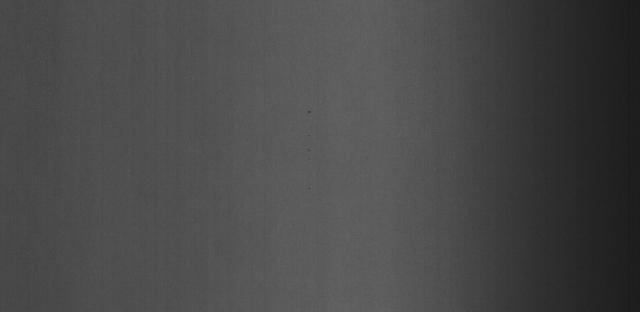inclusion: (304, 146, 316, 193), (302, 102, 315, 142)
